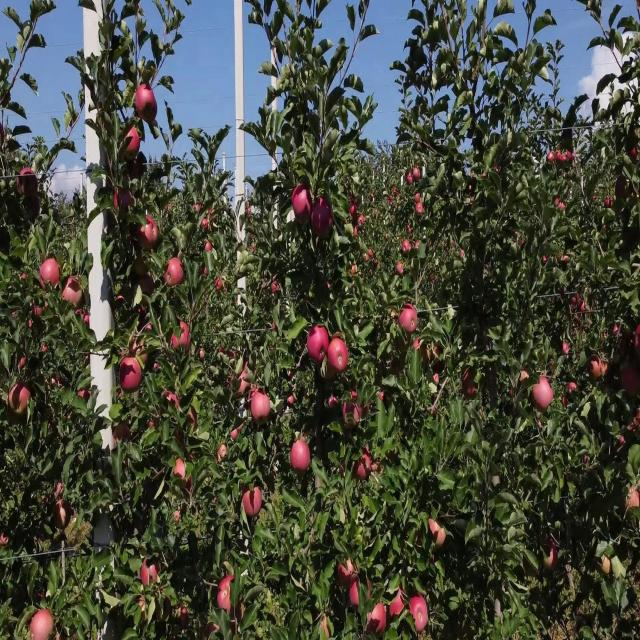apple: (120, 355, 144, 393), (312, 199, 334, 236), (292, 184, 311, 224), (308, 327, 329, 363), (328, 341, 349, 375), (352, 575, 372, 610), (292, 440, 312, 475), (252, 391, 272, 425), (32, 611, 55, 639), (140, 561, 162, 590), (136, 220, 156, 251), (536, 376, 553, 412), (336, 561, 357, 590), (136, 85, 155, 117), (244, 490, 264, 519), (368, 604, 388, 633), (16, 170, 36, 199), (20, 170, 40, 199), (344, 398, 361, 432), (412, 597, 428, 633), (220, 575, 235, 613), (400, 305, 419, 334), (620, 369, 640, 396), (40, 263, 60, 290), (64, 277, 83, 304), (144, 92, 159, 126), (168, 255, 184, 284), (544, 540, 560, 569), (68, 277, 84, 306), (356, 447, 372, 476), (124, 127, 140, 155), (144, 220, 160, 247), (356, 455, 372, 482), (116, 191, 135, 213), (116, 419, 132, 443), (392, 590, 405, 619), (464, 369, 477, 398), (140, 277, 156, 299), (132, 341, 148, 363), (180, 319, 192, 348), (20, 383, 32, 411), (164, 391, 180, 412), (128, 156, 142, 180), (104, 433, 118, 455), (56, 504, 68, 528), (148, 412, 163, 430), (432, 341, 442, 368), (136, 255, 148, 277), (628, 490, 640, 512), (436, 526, 448, 548), (136, 341, 148, 363), (392, 355, 404, 377), (600, 554, 612, 576), (468, 177, 478, 203), (8, 405, 21, 425), (28, 199, 41, 219), (180, 604, 190, 629), (432, 348, 443, 370), (160, 590, 172, 610), (320, 618, 331, 639), (356, 462, 367, 482), (592, 355, 601, 379), (364, 447, 373, 471), (616, 327, 628, 345), (216, 447, 228, 464), (176, 462, 186, 482), (188, 412, 198, 432), (176, 462, 186, 482), (428, 519, 439, 537), (236, 604, 247, 622), (32, 590, 47, 603), (520, 369, 531, 386), (140, 597, 148, 620), (240, 376, 249, 396), (32, 305, 44, 320), (604, 554, 612, 576), (620, 177, 628, 199), (52, 376, 63, 391), (172, 328, 180, 348), (24, 618, 32, 638), (80, 391, 92, 404), (200, 220, 210, 235), (232, 426, 242, 441), (184, 476, 193, 492), (164, 270, 172, 288), (416, 341, 427, 354), (328, 398, 339, 411), (616, 327, 627, 340), (56, 483, 64, 500), (116, 291, 125, 306), (636, 327, 640, 359), (12, 391, 19, 409), (36, 590, 47, 601), (20, 355, 28, 370), (144, 319, 152, 334), (84, 312, 92, 327), (412, 170, 421, 183), (636, 327, 640, 356), (172, 334, 180, 348), (396, 263, 404, 277), (564, 341, 571, 356), (620, 433, 627, 448), (632, 149, 640, 162), (172, 511, 180, 524), (140, 305, 148, 318), (393, 312, 400, 325), (568, 383, 577, 393), (604, 362, 610, 375), (200, 348, 205, 363), (40, 497, 48, 505), (432, 376, 440, 384), (4, 533, 8, 548), (288, 398, 296, 405), (564, 398, 568, 405)
